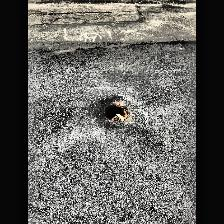pothole: (103, 104, 129, 122)
